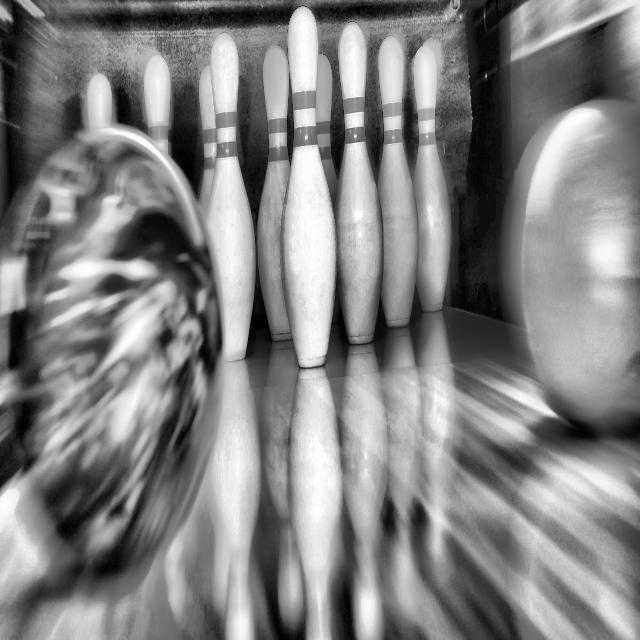bowling-ball: (0, 125, 222, 572), (505, 99, 640, 423)
bowling-pins: (281, 5, 337, 367), (206, 31, 256, 361), (335, 20, 383, 343), (378, 35, 419, 326), (413, 44, 452, 311), (257, 44, 292, 340), (316, 52, 338, 204), (199, 63, 217, 216), (143, 53, 170, 153), (87, 72, 111, 130)
